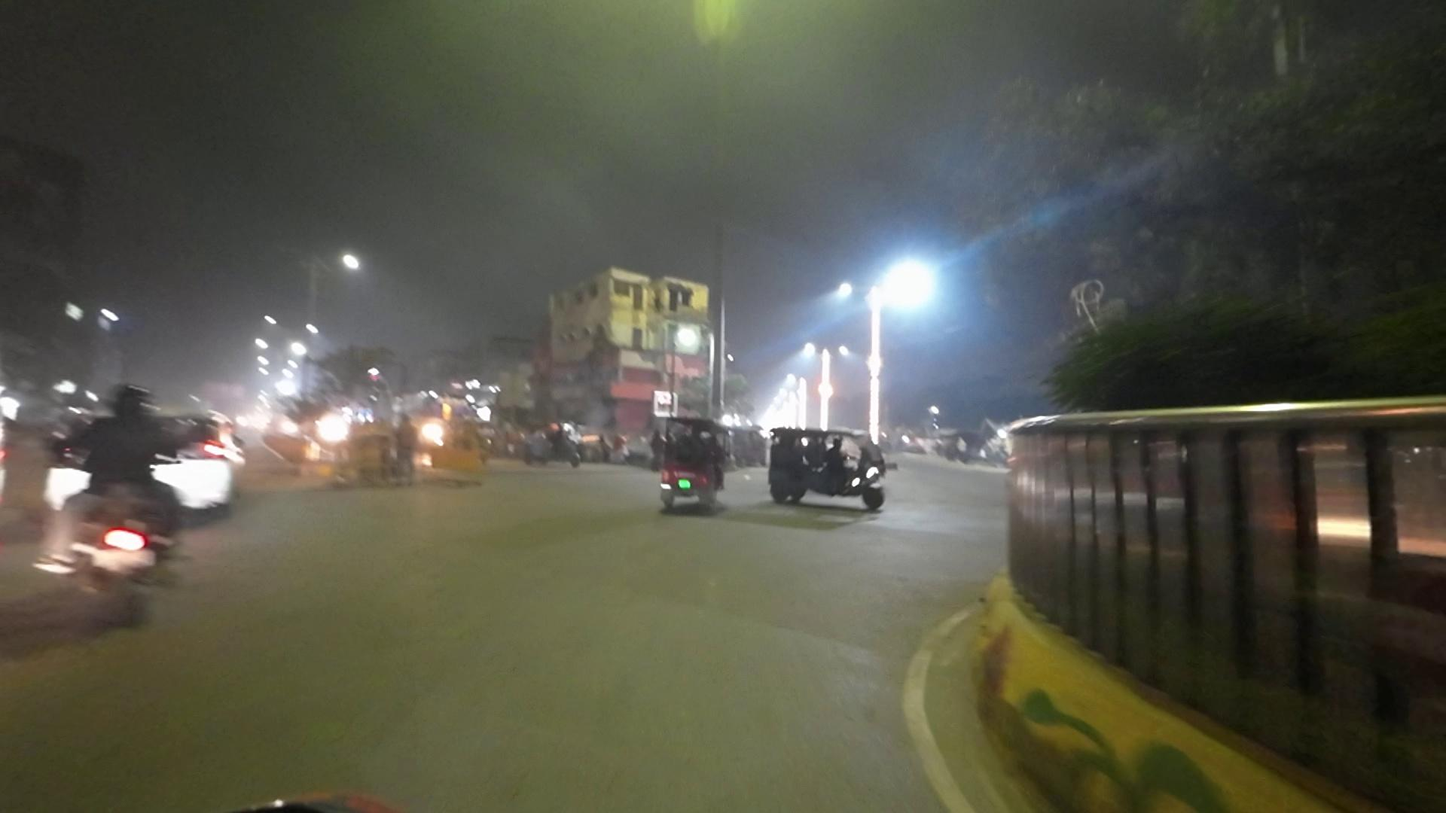streetlight: (274, 241, 311, 259)
